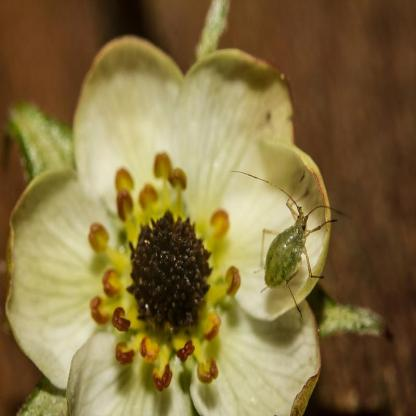aphid: (242, 157, 344, 309)
